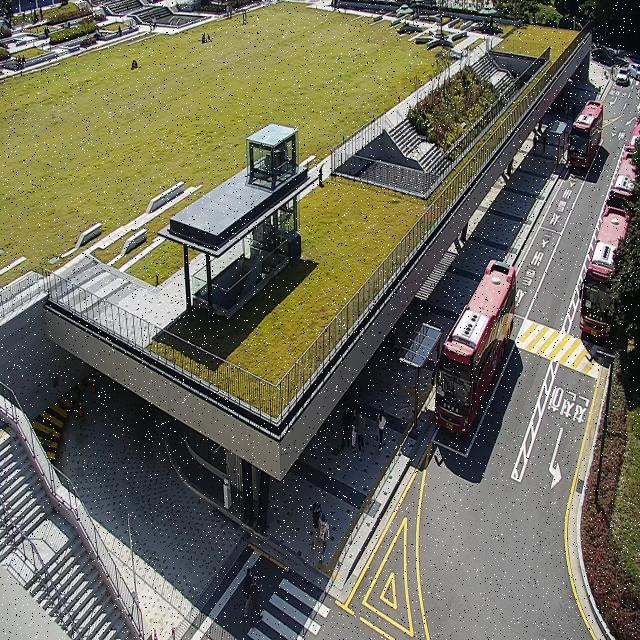queue: (412, 330, 442, 434)
